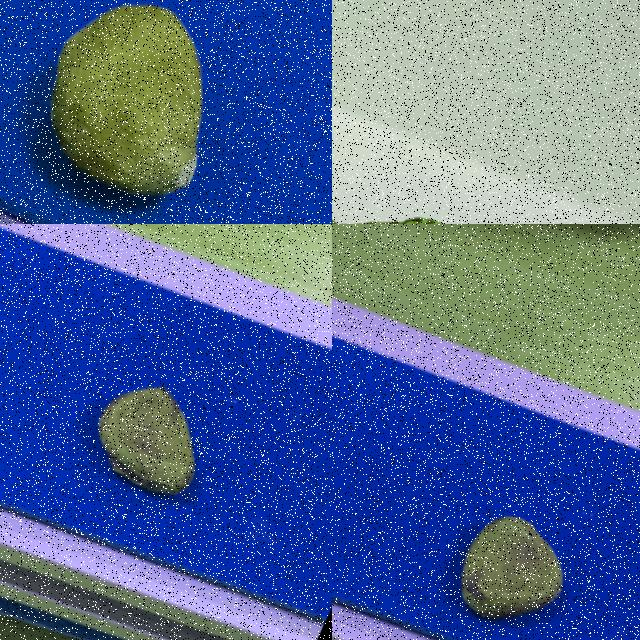Fine_cocoabeans: (0, 0, 331, 223)
Flat_cocoabeans: (352, 446, 639, 639), (21, 325, 274, 535), (332, 97, 639, 223)
